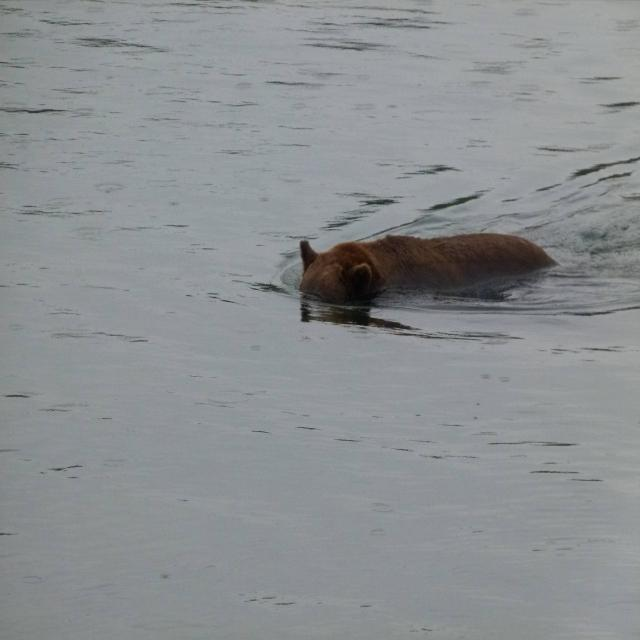bear face: (300, 232, 546, 307)
